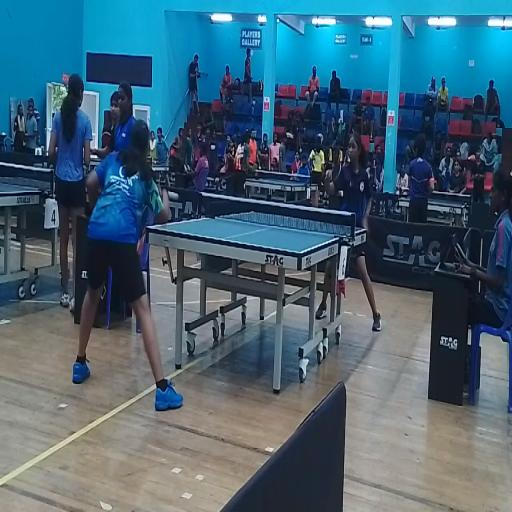ball: (168, 191, 179, 202)
